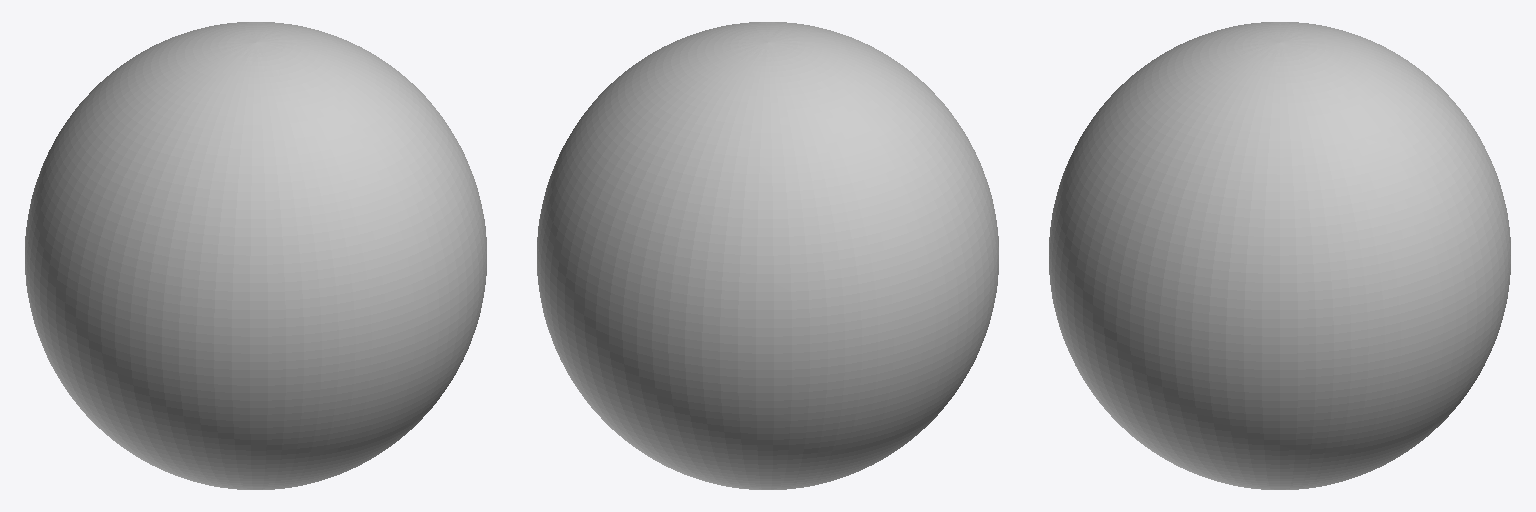
File: f_relbow.obj
The picture shows the model from 3 angles: view 1: azimuth 30°, elevation 25°; view 2: azimuth 150°, elevation 25°; view 3: azimuth 270°, elevation 25°; orthographic projection.
Visible parts, largest first — view 1: pSphere4; view 2: pSphere4; view 3: pSphere4.
Boxes of the visible parts, x1=… form: pSphere4: x1=25, y1=22, x2=486, y2=489; pSphere4: x1=537, y1=22, x2=998, y2=489; pSphere4: x1=1049, y1=22, x2=1510, y2=489.
Bounding box in the file's own units: 0.3886 × 0.3956 × 0.3886.